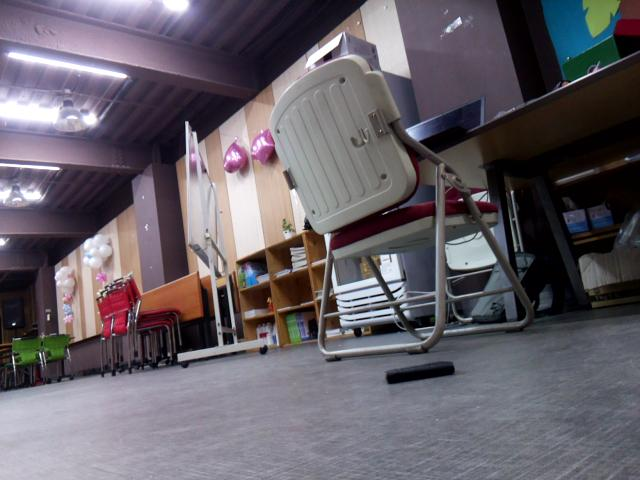wallet: (383, 356, 459, 389)
